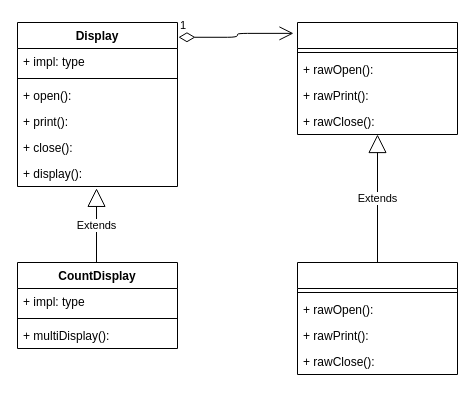
Image size: 475x395. Some labels were removed from this diagram. The shapes that lost their labels are listed below. From the top down, each one's box as (x1, y1, x2, y2) in pixels, then its label:
(296, 22, 458, 134): DisplayImpl
(296, 262, 458, 374): StringDisplayImpl
